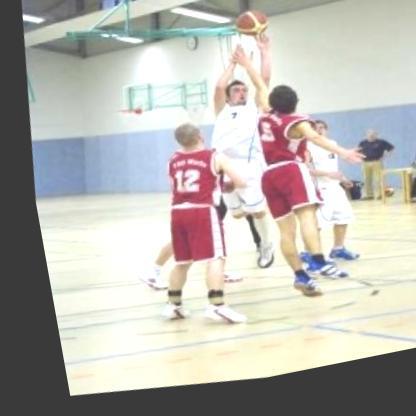basketball: (227, 14, 269, 53)
